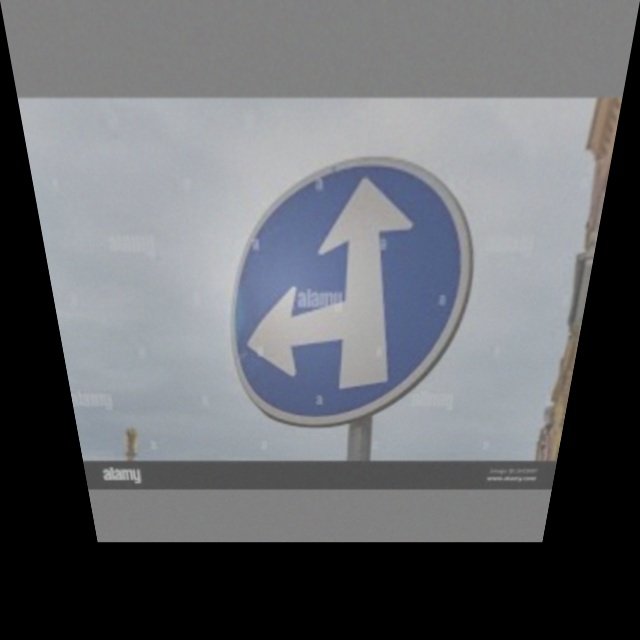Compulsory_Ahead_or_Turn_Left: (228, 159, 480, 421)
